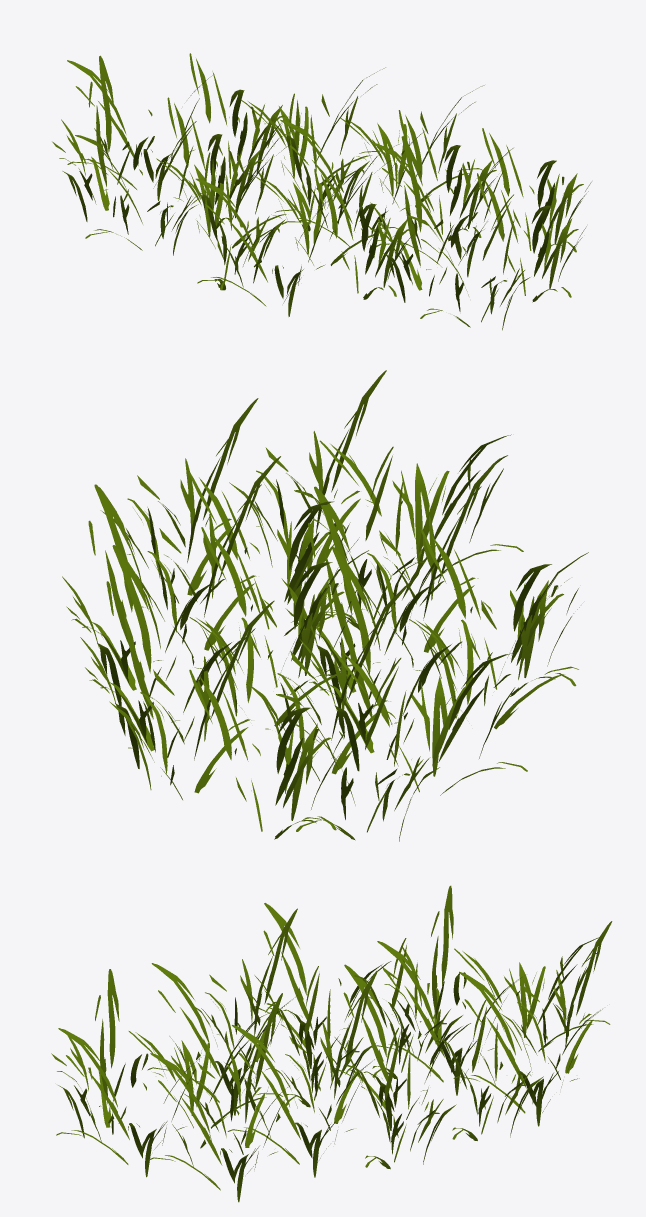
The model's file is SM_Grass_03.fbx.
3 renders of one model, top to bottom at view 1: azimuth 30°, elevation 25°; view 2: azimuth 150°, elevation 25°; view 3: azimuth 270°, elevation 25°, orthographic. The views are drawn at different scales.
Visible parts, largest first — view 1: SM_Grass_03_LOD0; view 2: SM_Grass_03_LOD0; view 3: SM_Grass_03_LOD0.
Boxes of the visible parts, x1,y1,x2,y2 form: SM_Grass_03_LOD0: [52, 53, 591, 330]; SM_Grass_03_LOD0: [62, 370, 588, 841]; SM_Grass_03_LOD0: [51, 885, 612, 1202].
Size of the model in its own units: 103 by 122 by 32.98.
1 material, 1 textured.
